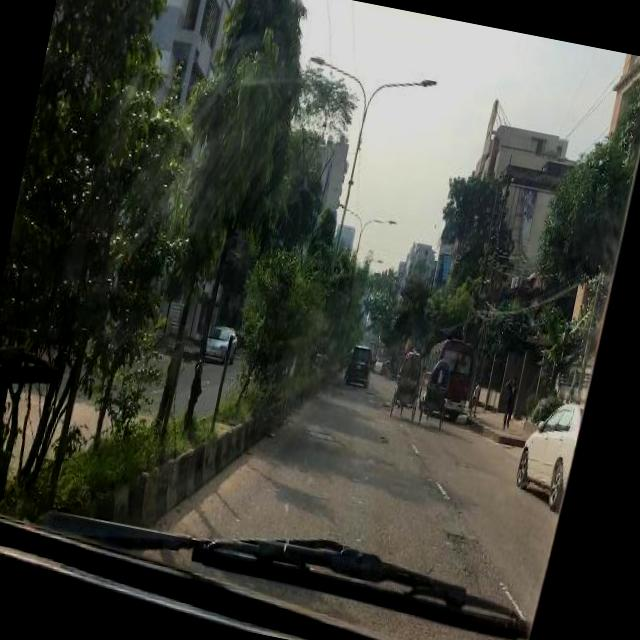bus: (419, 335, 478, 416)
car: (514, 392, 586, 508), (204, 322, 242, 367), (374, 358, 384, 375)
motorcycle: (390, 347, 428, 420), (419, 356, 458, 426)
truck: (348, 342, 377, 389)
